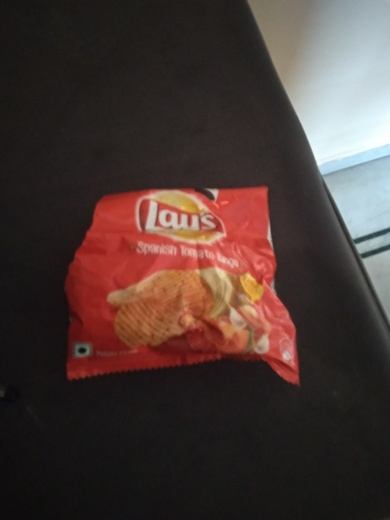lays: (44, 171, 313, 388)
